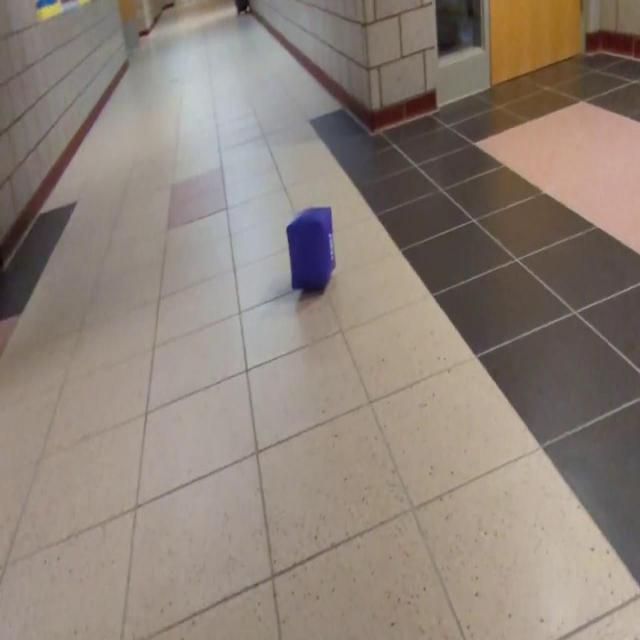frc_cube: (286, 207, 333, 294)
